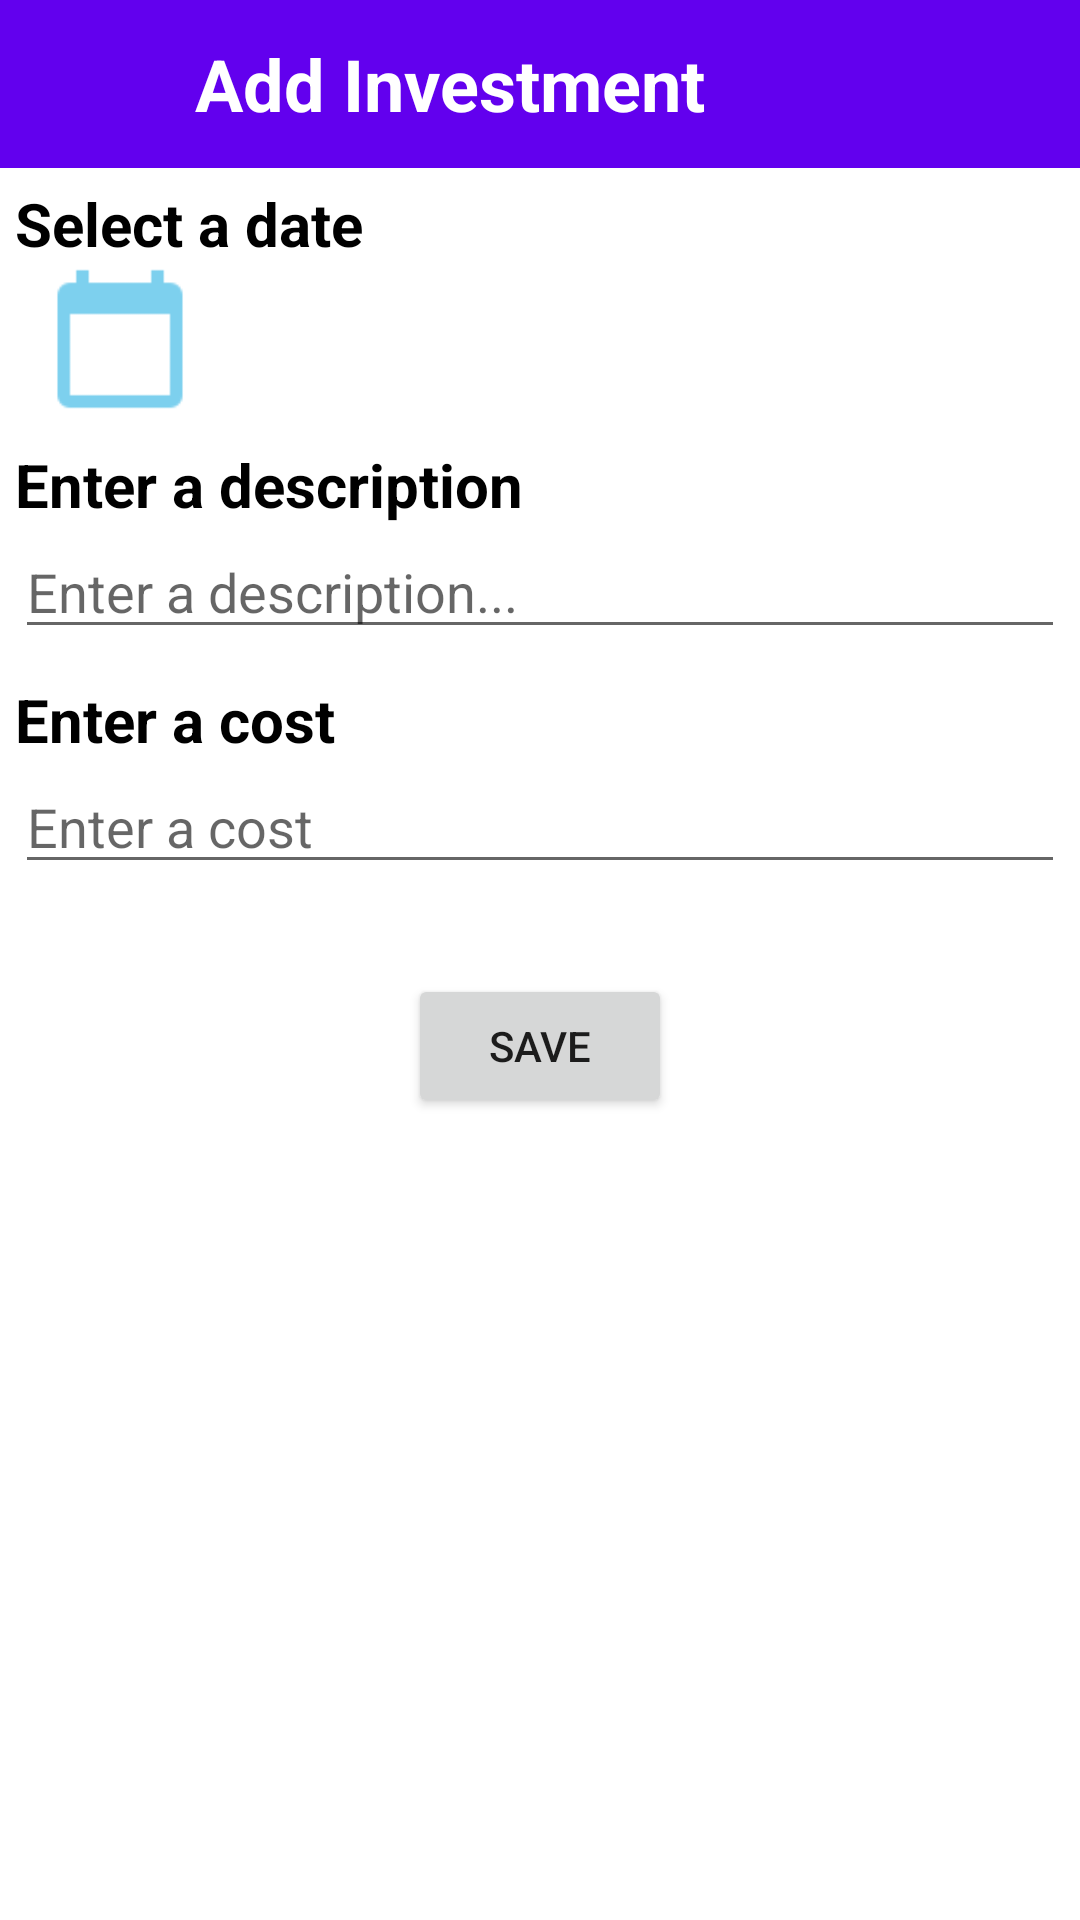

Locate icon controls on the screen. Image size 1080 × 1920, boxes as {"x1": x1, "y1": y1, "x2": x2, "y2": y2}.
calendar: {"x1": 57, "y1": 270, "x2": 183, "y2": 408}
